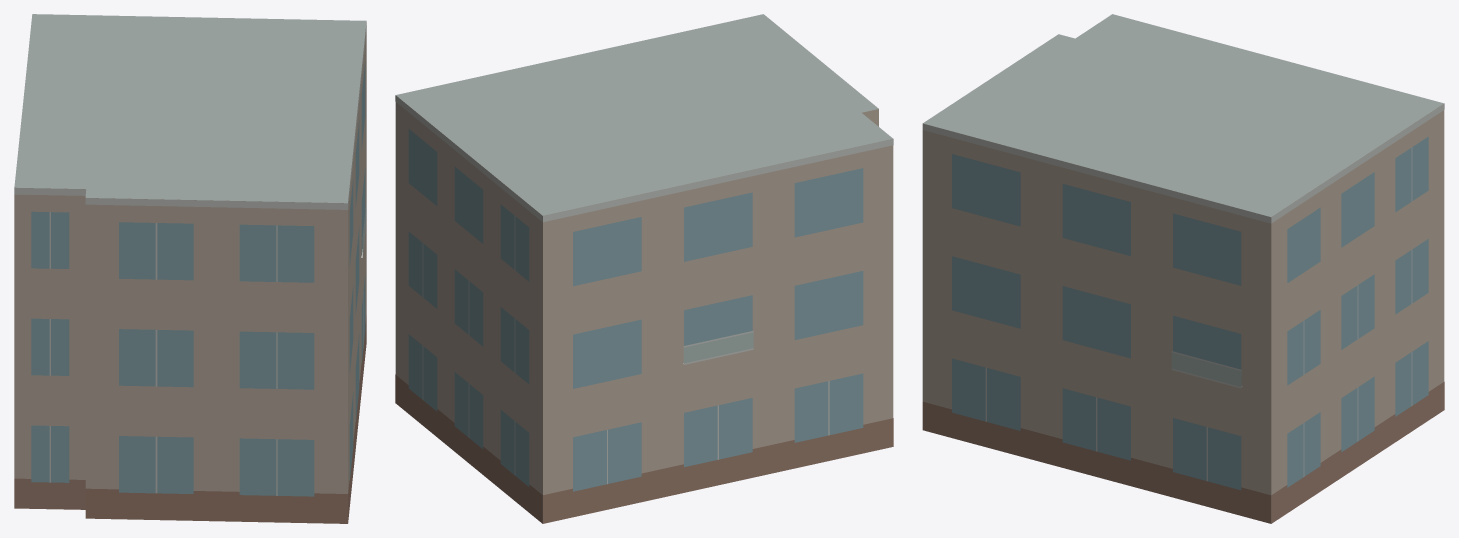
Rendered from survey-upis-32771624.glb.
The picture shows the model from 3 angles, left to right: view 1: azimuth 30°, elevation 25°; view 2: azimuth 150°, elevation 25°; view 3: azimuth 270°, elevation 25°; orthographic projection. The views are drawn at different scales.
Parts seen in each view (by area): view 1: survey-upis-32771624.tmp; view 2: survey-upis-32771624.tmp; view 3: survey-upis-32771624.tmp.
Boxes of the visible parts, box(x1,y1,x2,y2) form: survey-upis-32771624.tmp: box(14, 14, 366, 523); survey-upis-32771624.tmp: box(395, 14, 893, 523); survey-upis-32771624.tmp: box(922, 14, 1444, 523).
Size of the model in its own units: 16.49 by 11.6 by 17.89.
